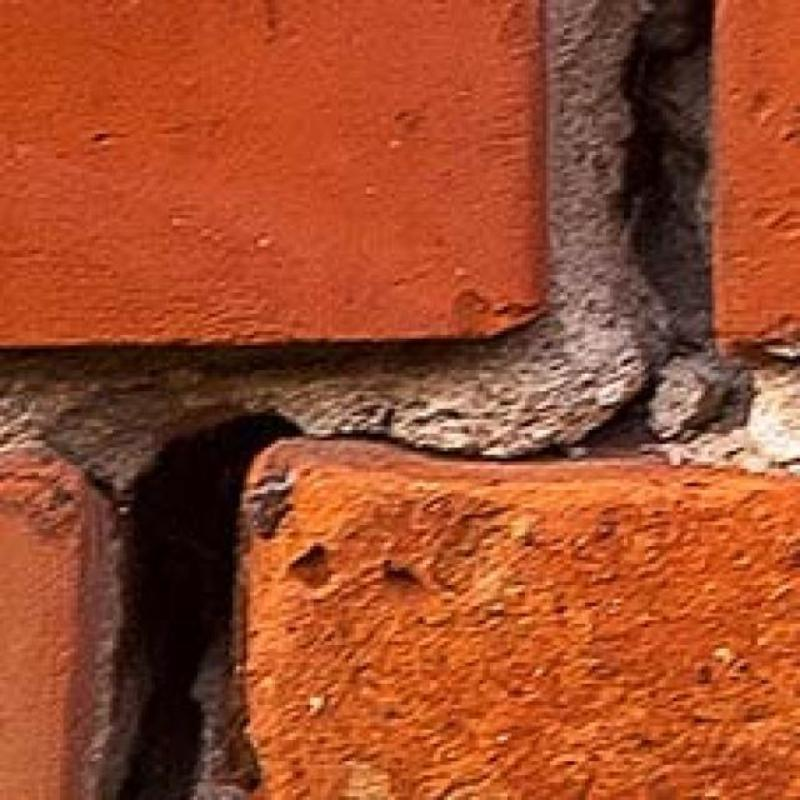crack: (119, 412, 300, 799), (622, 0, 712, 349), (317, 370, 657, 462)
